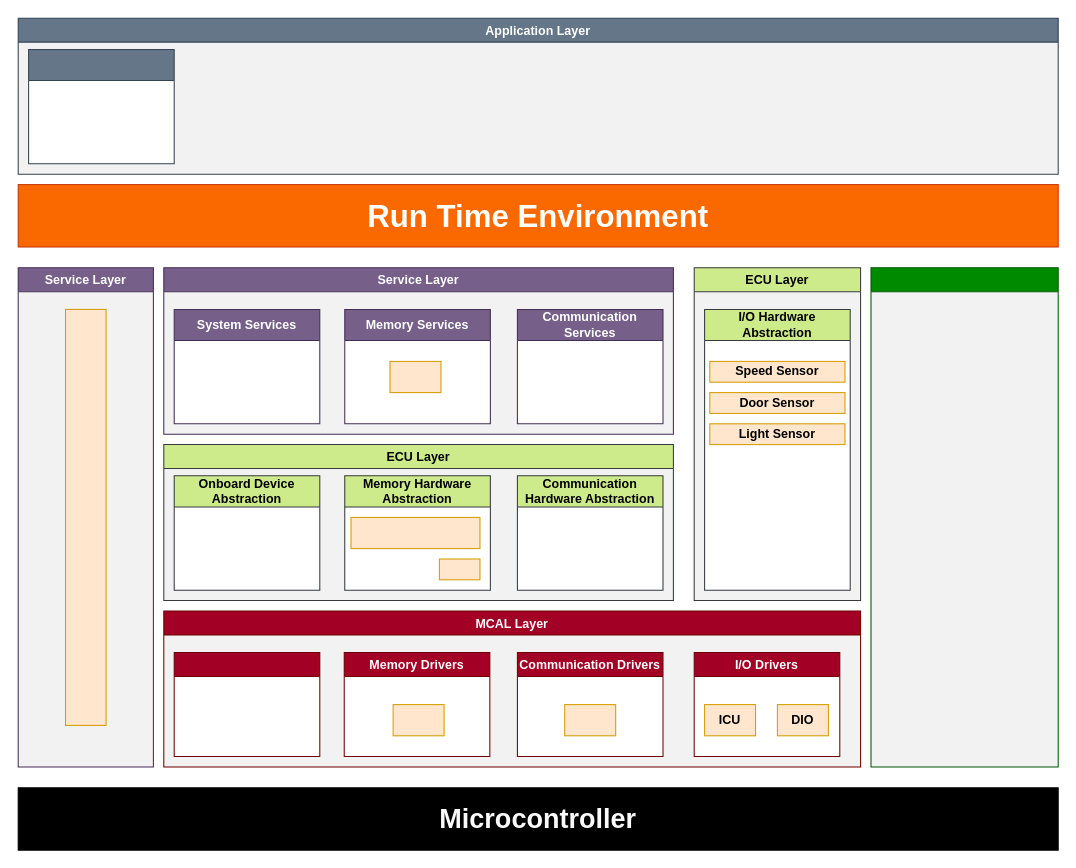
The diagram is 1076 pixels wide and 868 high, and some of its shapes have lost their labels. Each missing label, with the centre of its shape:
"AUTOSAR OS" goes at point (85, 516).
"CAN" goes at point (590, 720).
"Complex Drivers" goes at point (964, 517).
"Fee" goes at point (459, 569).
"Fls" goes at point (418, 720).
"memif" goes at point (415, 532).
"Microcontroller Drivers" goes at point (246, 704).
"NVM" goes at point (415, 376).
"Software Component" goes at point (101, 106).
